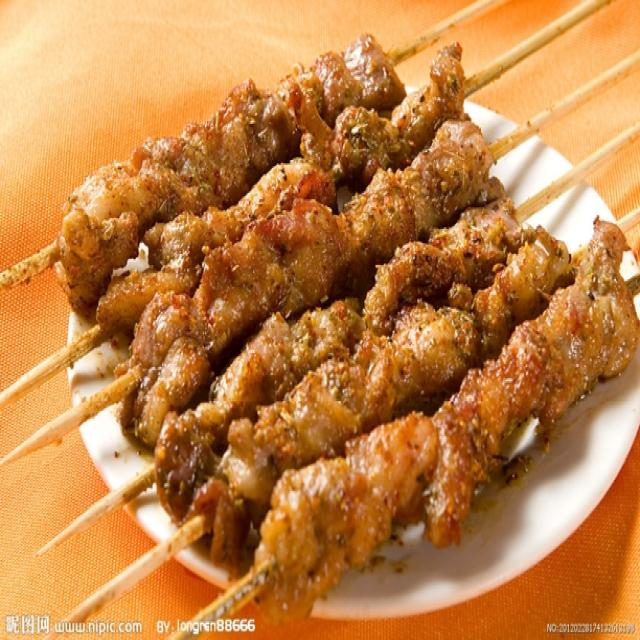烧串烤肉: (14, 24, 612, 614)
